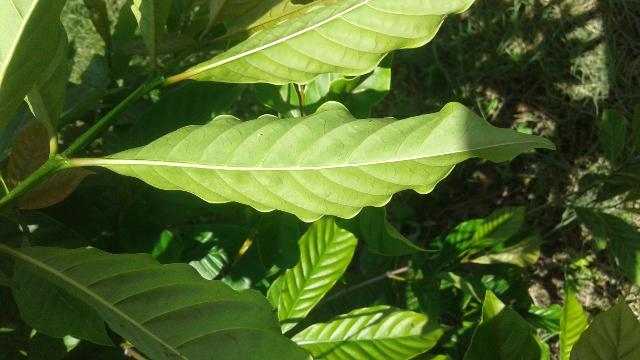healthy: (103, 100, 554, 222)
